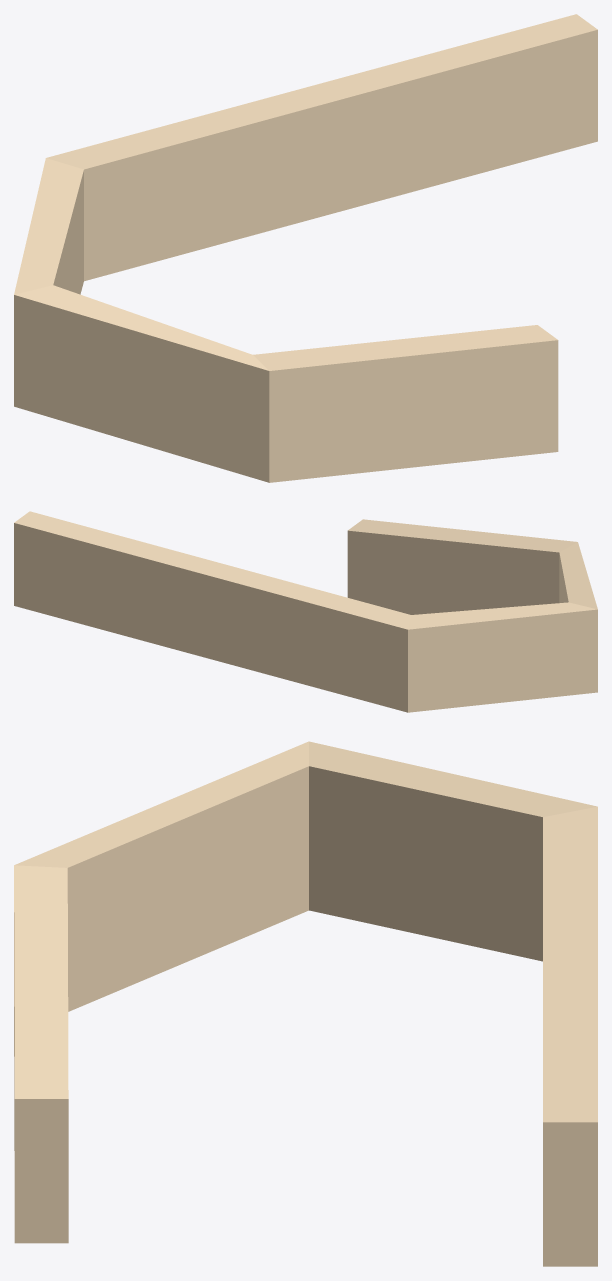
File: Rib.fbx
The picture shows the model from 3 angles, top to bottom: view 1: azimuth 30°, elevation 25°; view 2: azimuth 150°, elevation 25°; view 3: azimuth 270°, elevation 25°; orthographic projection. The views are drawn at different scales.
Parts seen in each view (by area): view 1: Rib; view 2: Rib; view 3: Rib.
Boxes of the visible parts, left/top/right/bottom form: Rib: left=14, top=14, right=597, bottom=482; Rib: left=14, top=511, right=597, bottom=712; Rib: left=14, top=741, right=597, bottom=1266.
Size of the model in its own units: 269 by 81.25 by 157.
